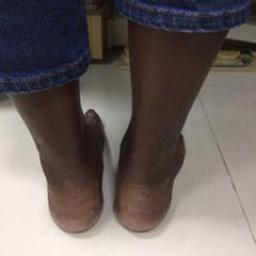Back View -Both Feet-: (14, 104, 203, 248)
